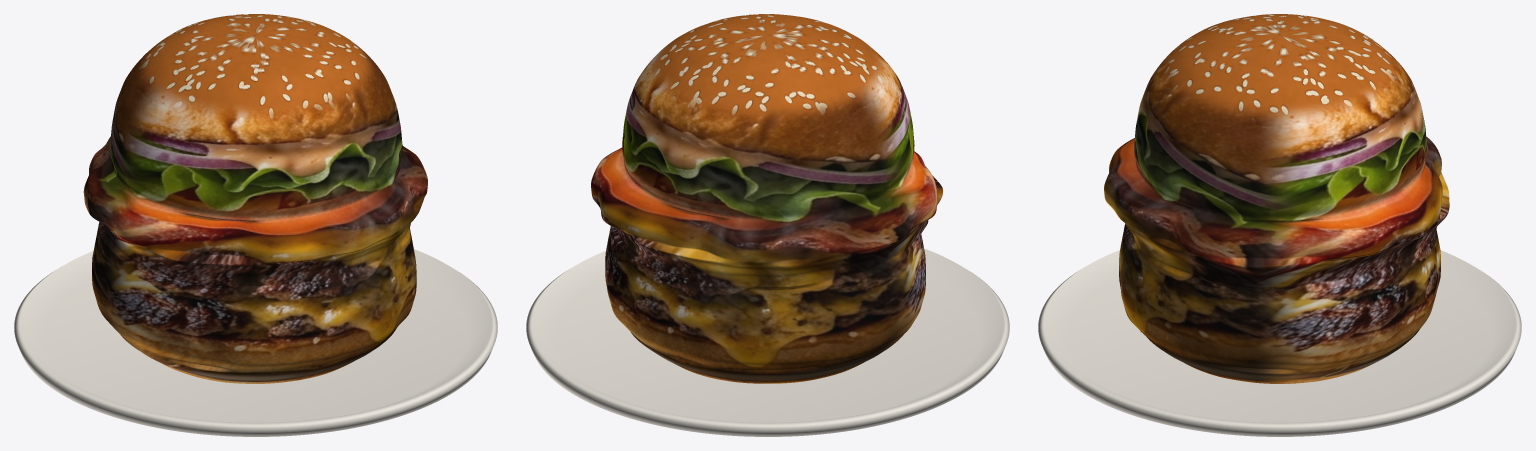
The model's file is smash-burger.glb.
3 views of the same model, side by side, from view 1: azimuth 30°, elevation 25°; view 2: azimuth 150°, elevation 25°; view 3: azimuth 270°, elevation 25° (orthographic).
Parts seen in each view (by area): view 1: smash-burger; view 2: smash-burger; view 3: smash-burger.
Boxes of the visible parts, left/top/right/bottom form: smash-burger: left=14, top=14, right=497, bottom=436; smash-burger: left=526, top=14, right=1009, bottom=436; smash-burger: left=1038, top=14, right=1521, bottom=436.
Bounding box in the file's own units: 0.198 × 0.1462 × 0.198.
Materials: 2 (1 with a texture image).
